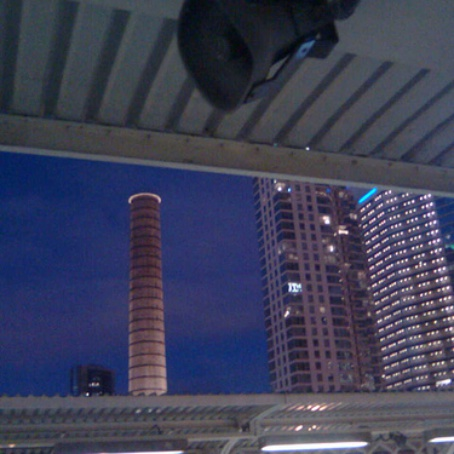building: (255, 174, 378, 406), (356, 188, 454, 400), (122, 187, 174, 399)
sky: (1, 159, 121, 402), (169, 165, 254, 388)
